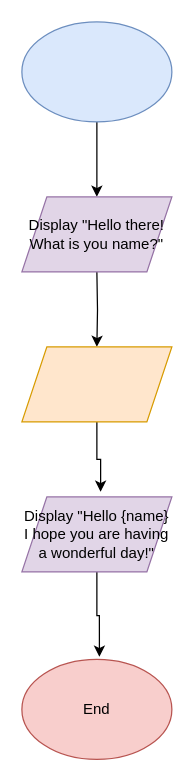
Image size: 194x781. Some labels were removed from this diagram. The shapes that lost their labels are listed below. From the top down, each one's centre as x and y in pixels, then its label:
At (96,71): "Start".
At (96,384): "User types name".
